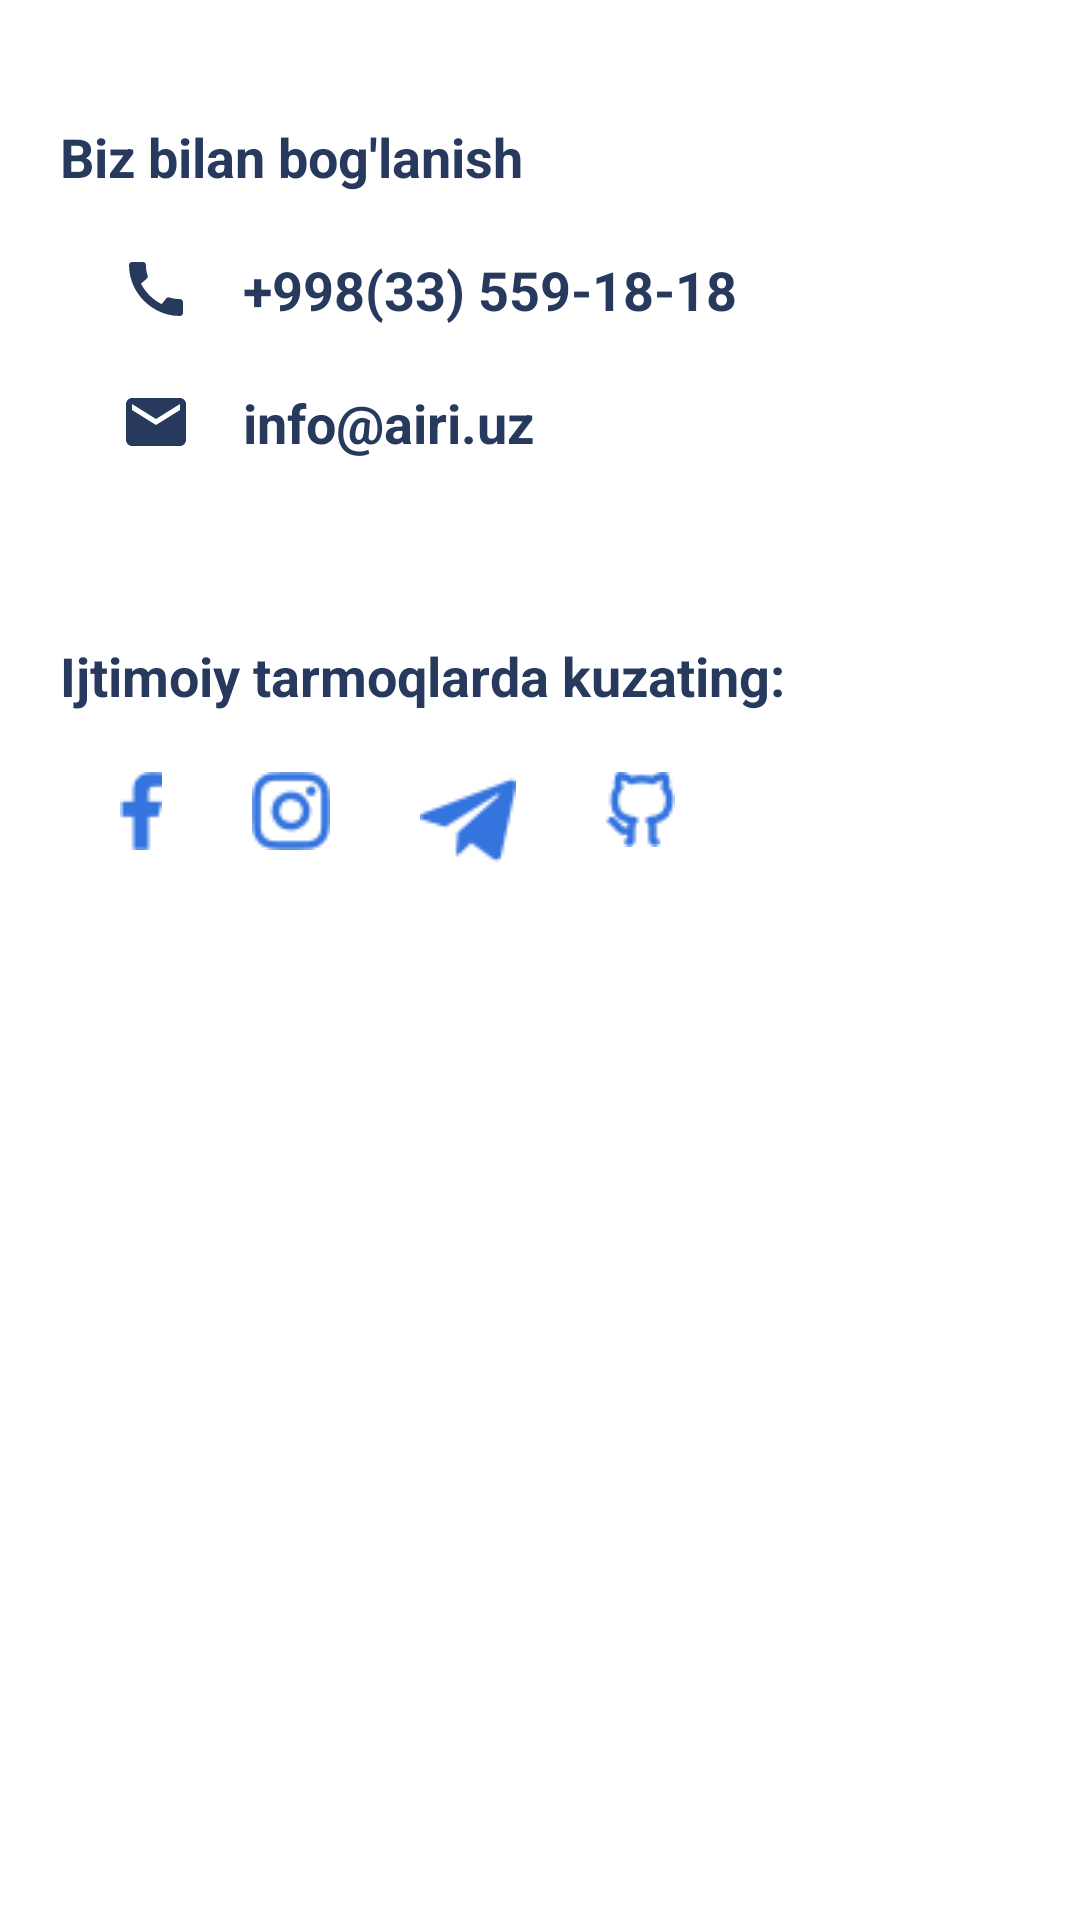

Icons on this 1080x1920 Android screen, each with its box as {"x1": x1, "y1": y1, "x2": x2, "y2": y2}:
call: {"x1": 129, "y1": 262, "x2": 183, "y2": 316}
email: {"x1": 126, "y1": 398, "x2": 186, "y2": 446}
